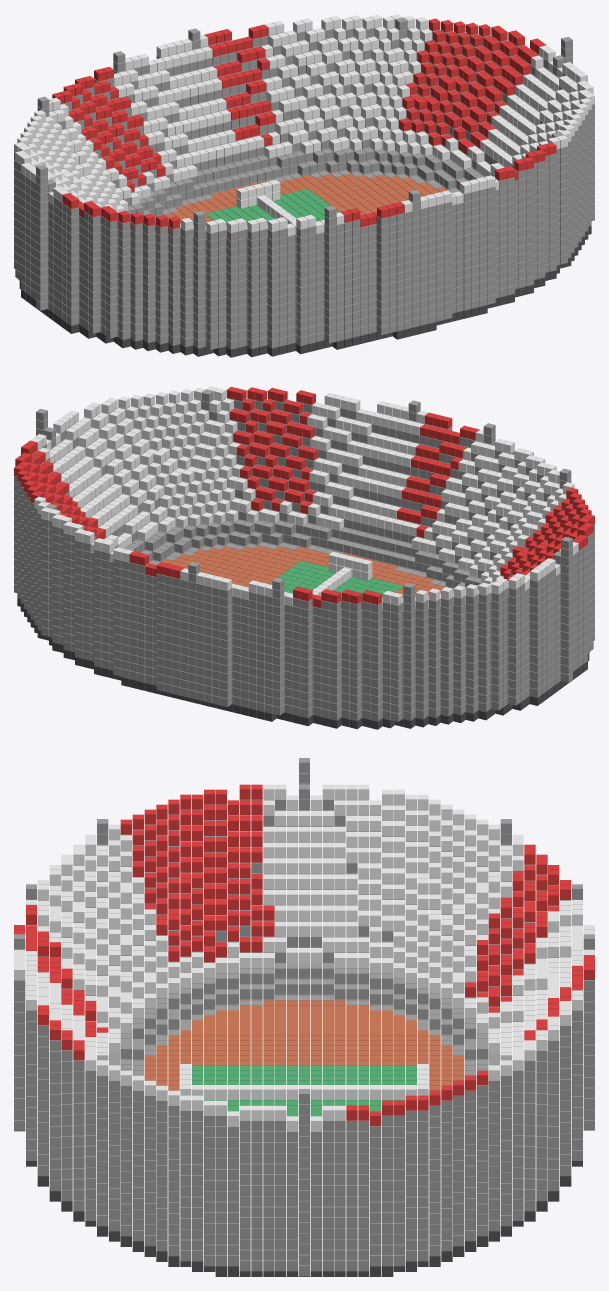
File: monumental2.fbx
The picture shows the model from 3 angles, top to bottom: view 1: azimuth 30°, elevation 25°; view 2: azimuth 150°, elevation 25°; view 3: azimuth 270°, elevation 25°; orthographic projection. The views are drawn at different scales.
Visible parts, largest first — view 1: Voxel_Concrete, Voxel_White, Voxel_Red, Voxel_Track, Voxel_Black, Voxel_Grass; view 2: Voxel_Concrete, Voxel_White, Voxel_Red, Voxel_Track, Voxel_Black, Voxel_Grass; view 3: Voxel_Concrete, Voxel_White, Voxel_Red, Voxel_Track, Voxel_Grass, Voxel_Black.
Boxes of the visible parts, x1=… form: Voxel_Concrete: x1=14, y1=17, x2=594, y2=349; Voxel_White: x1=14, y1=14, x2=594, y2=237; Voxel_Red: x1=52, y1=18, x2=556, y2=233; Voxel_Track: x1=164, y1=173, x2=447, y2=225; Voxel_Black: x1=19, y1=226, x2=591, y2=357; Voxel_Grass: x1=205, y1=188, x2=339, y2=225; Voxel_Concrete: x1=14, y1=389, x2=594, y2=721; Voxel_White: x1=30, y1=386, x2=578, y2=609; Voxel_Red: x1=14, y1=386, x2=594, y2=608; Voxel_Track: x1=161, y1=545, x2=444, y2=597; Voxel_Black: x1=17, y1=598, x2=589, y2=729; Voxel_Grass: x1=269, y1=560, x2=403, y2=597; Voxel_Concrete: x1=14, y1=758, x2=594, y2=1276; Voxel_White: x1=14, y1=784, x2=594, y2=1131; Voxel_Red: x1=14, y1=784, x2=594, y2=1126; Voxel_Track: x1=144, y1=1000, x2=464, y2=1090; Voxel_Grass: x1=192, y1=1065, x2=416, y2=1116; Voxel_Black: x1=14, y1=1130, x2=582, y2=1276.
Size of the model in its own units: 2678 by 718 by 1958.
